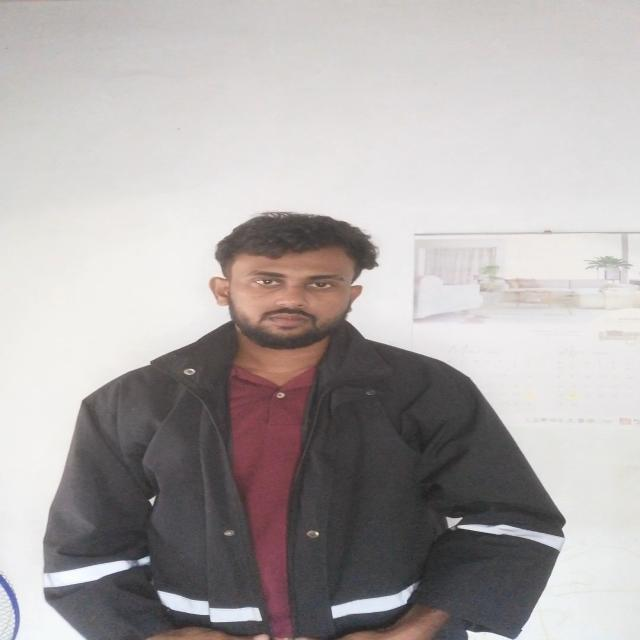Jacket_Wearer: (46, 296, 566, 640)
